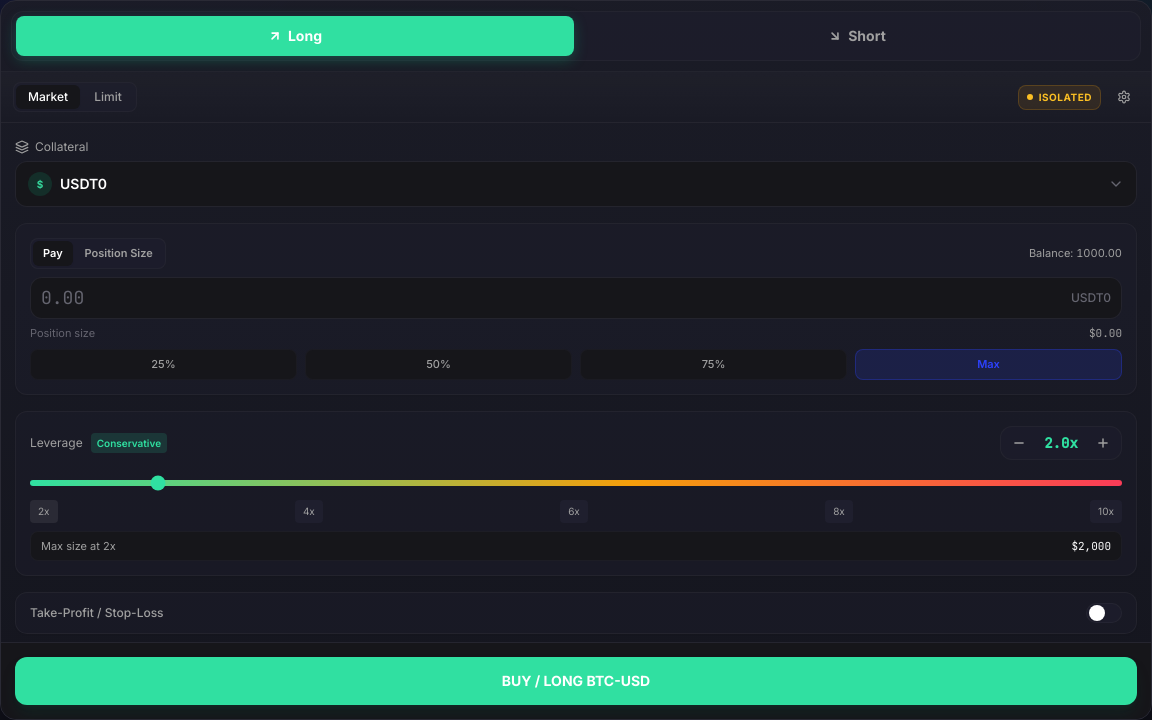
Test case: TradingForm order entry › flags empty and invalid amounts
Click the button with test id "trade-button": (576, 681) left=15, top=657, right=1137, bottom=705
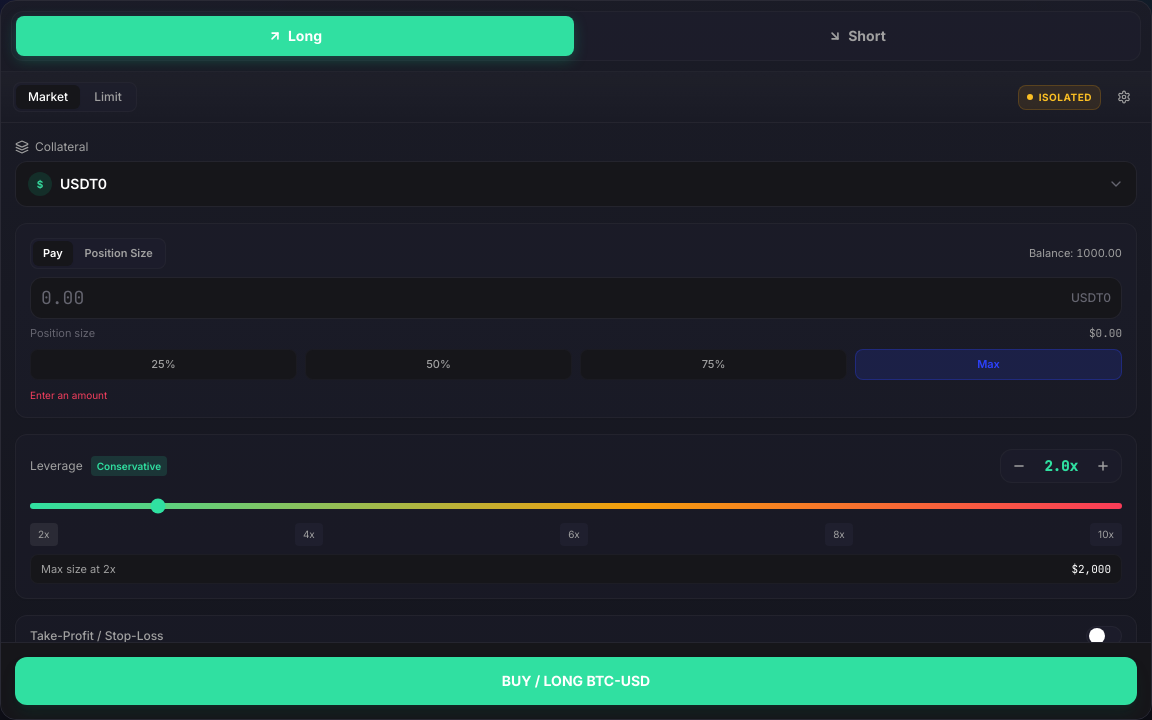
expect the text "Enter an amount" is shown: met, box left=30, top=388, right=107, bottom=400
